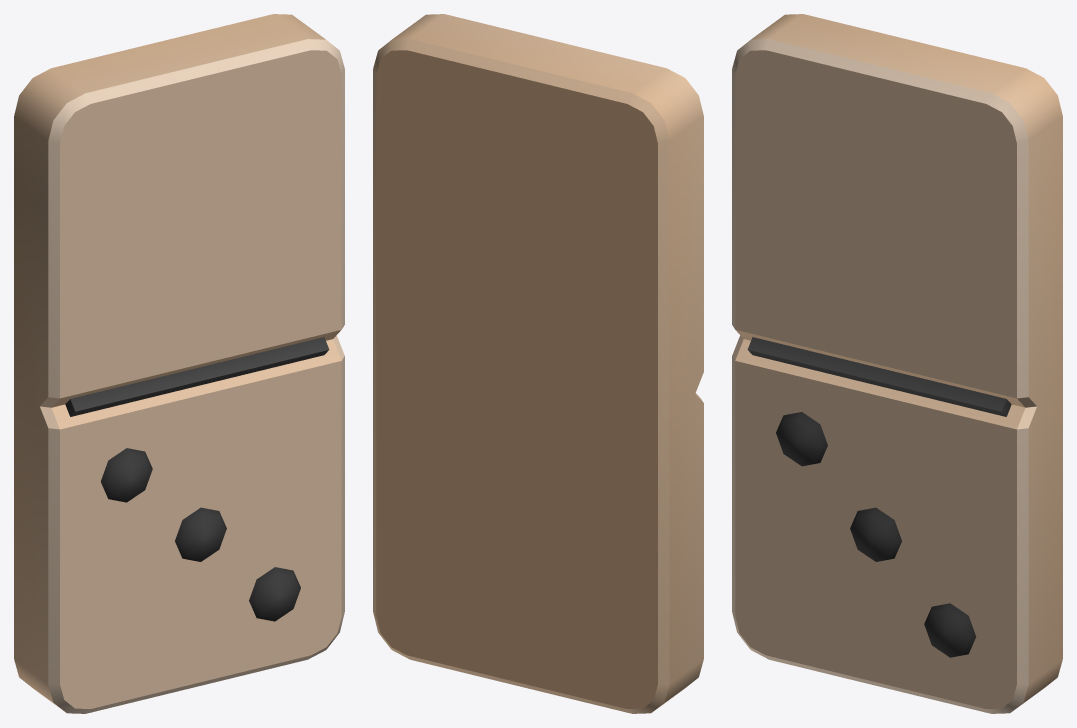
File: KFB_Domino_0-3.r1.glb
3 views of the same model, side by side, from view 1: azimuth 30°, elevation 25°; view 2: azimuth 150°, elevation 25°; view 3: azimuth 330°, elevation 25° (orthographic).
Parts seen in each view (by area): view 1: KFB_Domino_0-3; view 2: KFB_Domino_0-3; view 3: KFB_Domino_0-3.
Part boxes in pixels (x1=…): KFB_Domino_0-3: x1=14, y1=14, x2=344, y2=713; KFB_Domino_0-3: x1=373, y1=14, x2=703, y2=713; KFB_Domino_0-3: x1=732, y1=14, x2=1062, y2=713.
Bounding box in the file's own units: 2.44 × 4.87 × 0.6739.
Materials: 1 (1 with a texture image).
